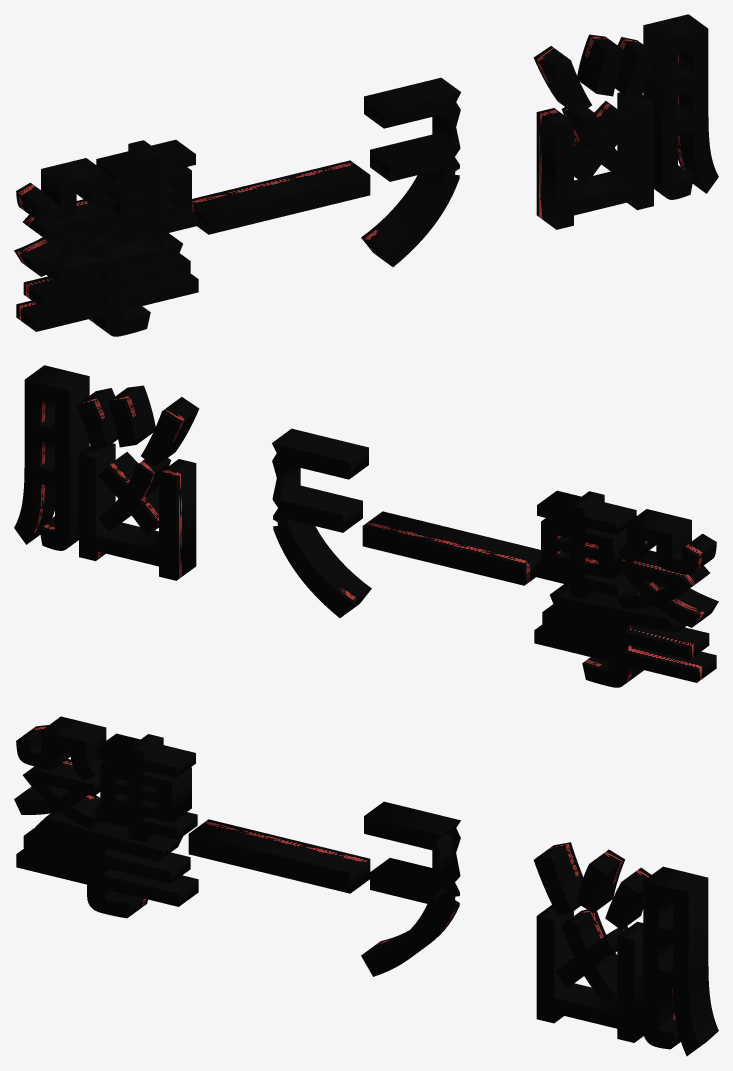
Rendered from Title.obj.
3 renders of one model, top to bottom at view 1: azimuth 30°, elevation 25°; view 2: azimuth 150°, elevation 25°; view 3: azimuth 330°, elevation 25°, orthographic.
Visible parts, largest first — view 1: テキスト; view 2: テキスト; view 3: テキスト.
Part boxes in pixels (x1,y1,x2,y2): テキスト: [14, 14, 718, 336]; テキスト: [14, 365, 718, 687]; テキスト: [14, 716, 718, 1056].
Size of the model in its own units: 3.98 by 0.9541 by 0.2.
Materials: 1 (1 with a texture image).
